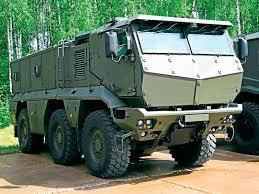truck: (5, 12, 246, 180)
